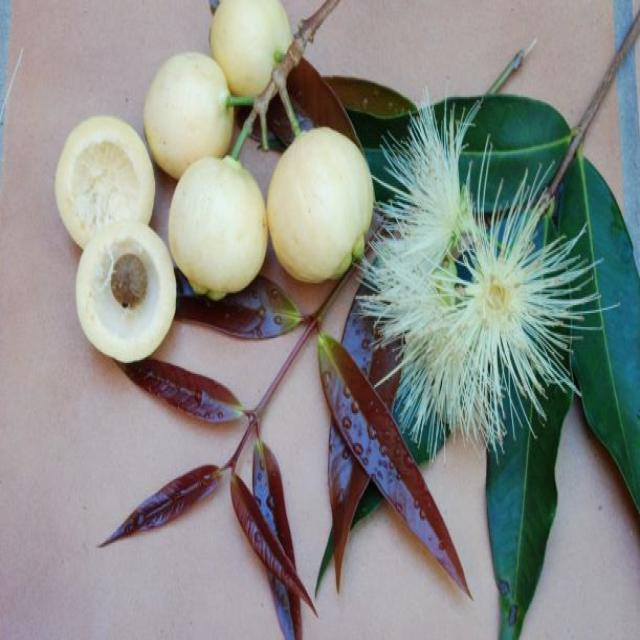Medicinal-Rose Apple: (57, 0, 640, 640)
